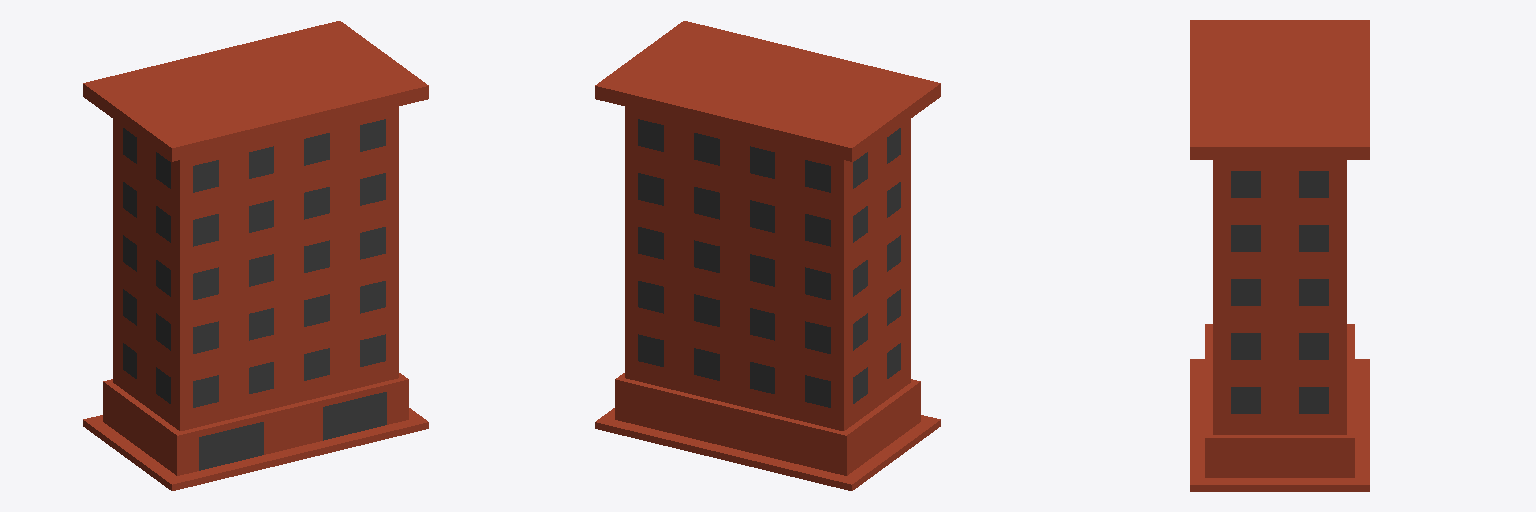
robot.urdf — building_2:
<?xml version="1.0"?> 

<!-- Copyright 2023 [author] -->

<!-- Licensed under the Apache License, Version 2.0 (the "License"); -->
<!-- you may not use this file except in compliance with the License. -->
<!-- You may obtain a copy of the License at -->

<!--     http://www.apache.org/licenses/LICENSE-2.0 -->

<!-- Unless required by applicable law or agreed to in writing, software -->
<!-- distributed under the License is distributed on an "AS IS" BASIS, -->
<!-- WITHOUT WARRANTIES OR CONDITIONS OF ANY KIND, either express or implied. -->
<!-- See the License for the specific language governing permissions and -->
<!-- limitations under the License. -->

<!-- Authors: [author], [author] -->

<robot name="building_2">
    <link name="building_2">
        <visual>
            <origin xyz="0 0 0" rpy="0 0 0" />
            <geometry>
                <mesh filename='meshes/building_2.stl' scale='0.1 0.1 0.1'/>
            </geometry>
            <material name="brick">
                <color rgba="0.7 0.3 0.2 1"/>
            </material>
        </visual>
        <collision>
            <origin xyz="0 0 0" rpy="0 0 0" />
            <geometry>
                <mesh filename='meshes/building_2.stl' scale='0.1 0.1 0.1'/>
            </geometry>
        </collision>
        <inertial>
            <mass value="10"/>
            <inertia ixx="0.4" ixy="0.0" ixz="0.0" iyy="0.4" iyz="0.0" izz="0.2" />
        </inertial>
    </link>
    <link name="windows">
        <visual>
            <origin xyz="0 0 0" rpy="0 0 0" />
            <geometry>
                <mesh filename='meshes/building_2windows.stl' scale='0.1 0.1 0.1'/>
            </geometry>
            <material name="black">
                <color rgba="0.3 0.3 0.3 1"/>
            </material>
        </visual>
        <collision>
            <origin xyz="0 0 0" rpy="0 0 0" />
            <geometry>
                <mesh filename='meshes/building_2windows.stl' scale='0.1 0.1 0.1'/>
            </geometry>
        </collision>
        <inertial>
            <mass value="10"/>
            <inertia ixx="0.4" ixy="0.0" ixz="0.0" iyy="0.4" iyz="0.0" izz="0.2" />
        </inertial>
    </link>
    <joint name="window" type="fixed">
        <origin rpy="0 0 0" xyz="0 0 0"/>
        <parent link="building_2"/>
        <child link="windows"/>
    </joint>
    <link name="doors">
        <visual>
            <origin xyz="0 0 0" rpy="0 0 0" />
            <geometry>
                <mesh filename='meshes/building_2doors.stl' scale='0.1 0.1 0.1'/>
            </geometry>
            <material name="black">
                <color rgba="0.3 0.3 0.3 1"/>
            </material>
        </visual>
        <collision>
            <origin xyz="0 0 0" rpy="0 0 0" />
            <geometry>
                <mesh filename='meshes/building_2doors.stl' scale='0.1 0.1 0.1'/>
            </geometry>
        </collision>
        <inertial>
            <mass value="10"/>
            <inertia ixx="0.4" ixy="0.0" ixz="0.0" iyy="0.4" iyz="0.0" izz="0.2" />
        </inertial>
    </link>
    <joint name="door" type="fixed">
        <origin rpy="0 0 0" xyz="0 -0.25 0"/>
        <parent link="building_2"/>
        <child link="doors"/>
        <axis xyz="-1 0 0"/>
    </joint>
</robot>

--- Render facts (derived) ---
The picture shows the robot from 3 angles, left to right: view 1: azimuth 30°, elevation 25°; view 2: azimuth 150°, elevation 25°; view 3: azimuth 270°, elevation 25°; orthographic projection.
Robot: building_2 — 3 links, 2 joints (2 fixed); root link building_2; default pose: every joint at zero.
Visible links, largest first — view 1: building_2, windows, doors; view 2: building_2, windows; view 3: building_2, windows.
Boxes of the visible links, left/top/right/bottom form: building_2: left=83, top=21, right=428, bottom=490; windows: left=123, top=119, right=385, bottom=407; doors: left=199, top=392, right=386, bottom=470; building_2: left=595, top=21, right=940, bottom=490; windows: left=638, top=119, right=900, bottom=407; building_2: left=1190, top=20, right=1369, bottom=491; windows: left=1231, top=171, right=1328, bottom=413.
Size in the robot's own frame: 10 by 6 by 12.75 metres.
3 mesh visuals loaded from 3 distinct referenced files (3 binary STL).
